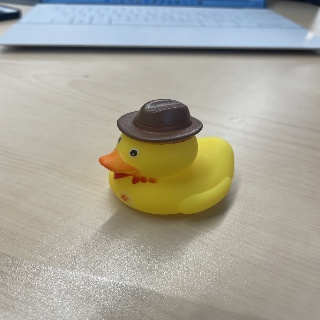duck_specialty: (100, 94, 234, 217)
